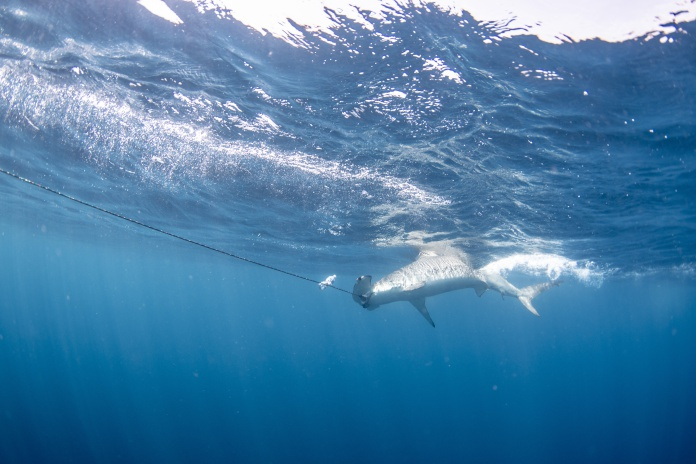Hammer: (310, 221, 569, 342)
